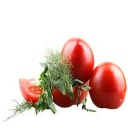tomato: (90, 64, 128, 108), (60, 39, 93, 81)
